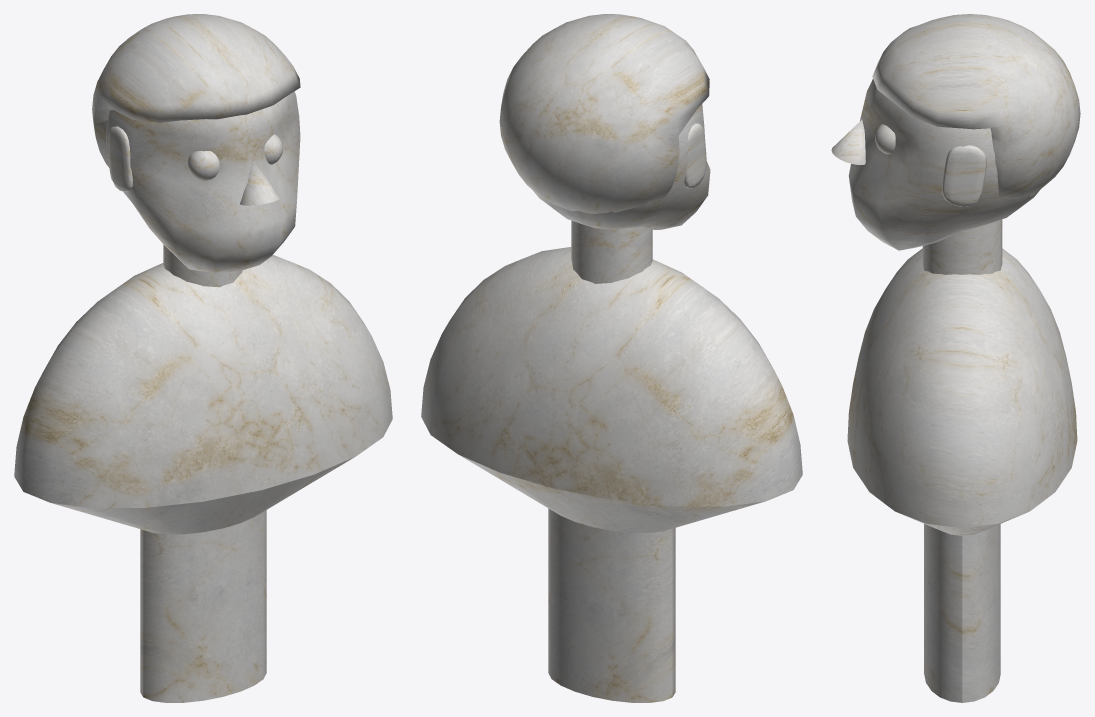
Rendered from Renaii_Bust.fbx.
The picture shows the model from 3 angles, left to right: view 1: azimuth 30°, elevation 25°; view 2: azimuth 150°, elevation 25°; view 3: azimuth 270°, elevation 25°; orthographic projection.
Visible parts, largest first — view 1: pSphere8, pSphere9, pSphere12, pCube94, pCylinder4, pCone1, pSphere10; view 2: pSphere8, pSphere12, pSphere9, pCylinder4, pCube94; view 3: pSphere8, pSphere12, pSphere9, pCylinder4, pCube95, pCone1, pSphere11.
Boxes of the visible parts, x1=… form: pSphere8: x1=14, y1=255, x2=392, y2=702; pSphere9: x1=106, y1=91, x2=300, y2=273; pSphere12: x1=92, y1=14, x2=300, y2=167; pCube94: x1=108, y1=126, x2=133, y2=191; pCylinder4: x1=163, y1=244, x2=242, y2=287; pCone1: x1=240, y1=161, x2=279, y2=205; pSphere10: x1=187, y1=151, x2=219, y2=180; pSphere8: x1=421, y1=247, x2=802, y2=702; pSphere12: x1=499, y1=14, x2=709, y2=214; pSphere9: x1=533, y1=104, x2=710, y2=229; pCylinder4: x1=571, y1=220, x2=652, y2=283; pCube94: x1=684, y1=123, x2=706, y2=188; pSphere8: x1=847, y1=248, x2=1077, y2=702; pSphere12: x1=872, y1=14, x2=1080, y2=198; pSphere9: x1=848, y1=79, x2=1040, y2=250; pCylinder4: x1=922, y1=219, x2=1002, y2=274; pCube95: x1=942, y1=145, x2=986, y2=206; pCone1: x1=831, y1=119, x2=865, y2=164; pSphere11: x1=875, y1=124, x2=895, y2=154.
Size of the model in its own units: 2 by 3.47 by 1.21.
1 material, 1 textured.
